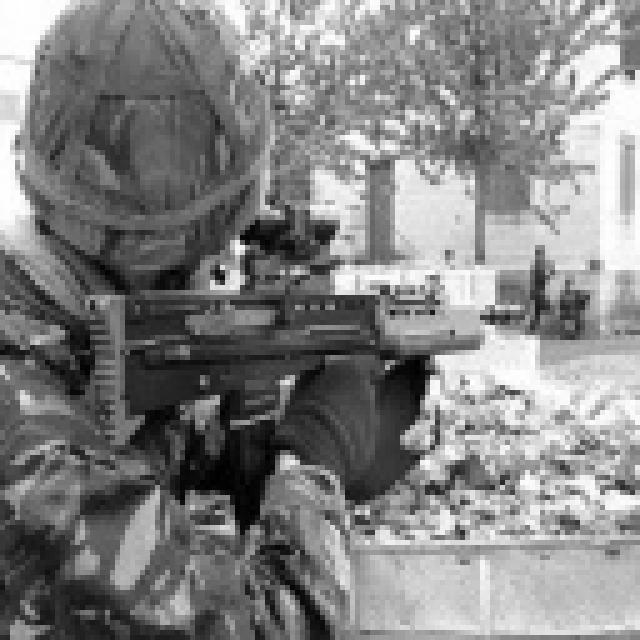Rifle: (61, 183, 548, 446)
